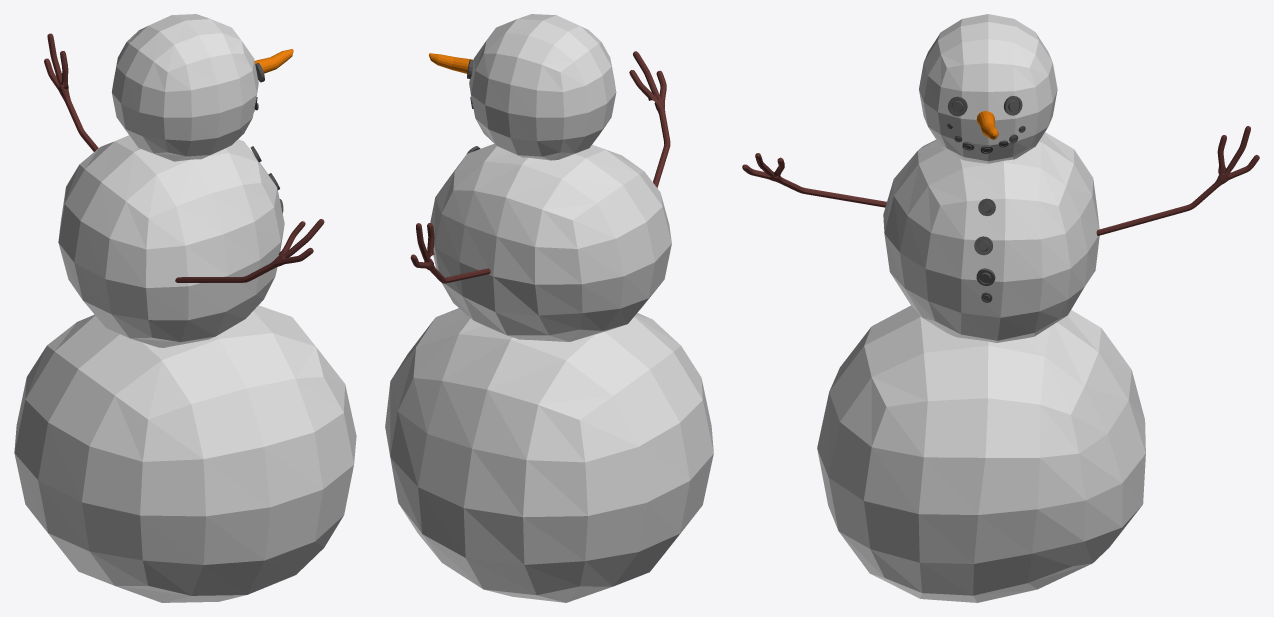
File: snowman.glb
3 renders of one model, left to right at view 1: azimuth 30°, elevation 25°; view 2: azimuth 150°, elevation 25°; view 3: azimuth 270°, elevation 25°, orthographic.
Parts seen in each view (by area): view 1: Cube.004; view 2: Cube.004; view 3: Cube.004.
Boxes of the visible parts, <box> form: Cube.004: <box>14,14,356,602</box>; Cube.004: <box>385,14,713,602</box>; Cube.004: <box>742,14,1259,602</box>.
Bounding box in the file's own units: 0.4394 × 0.8101 × 0.6719.
